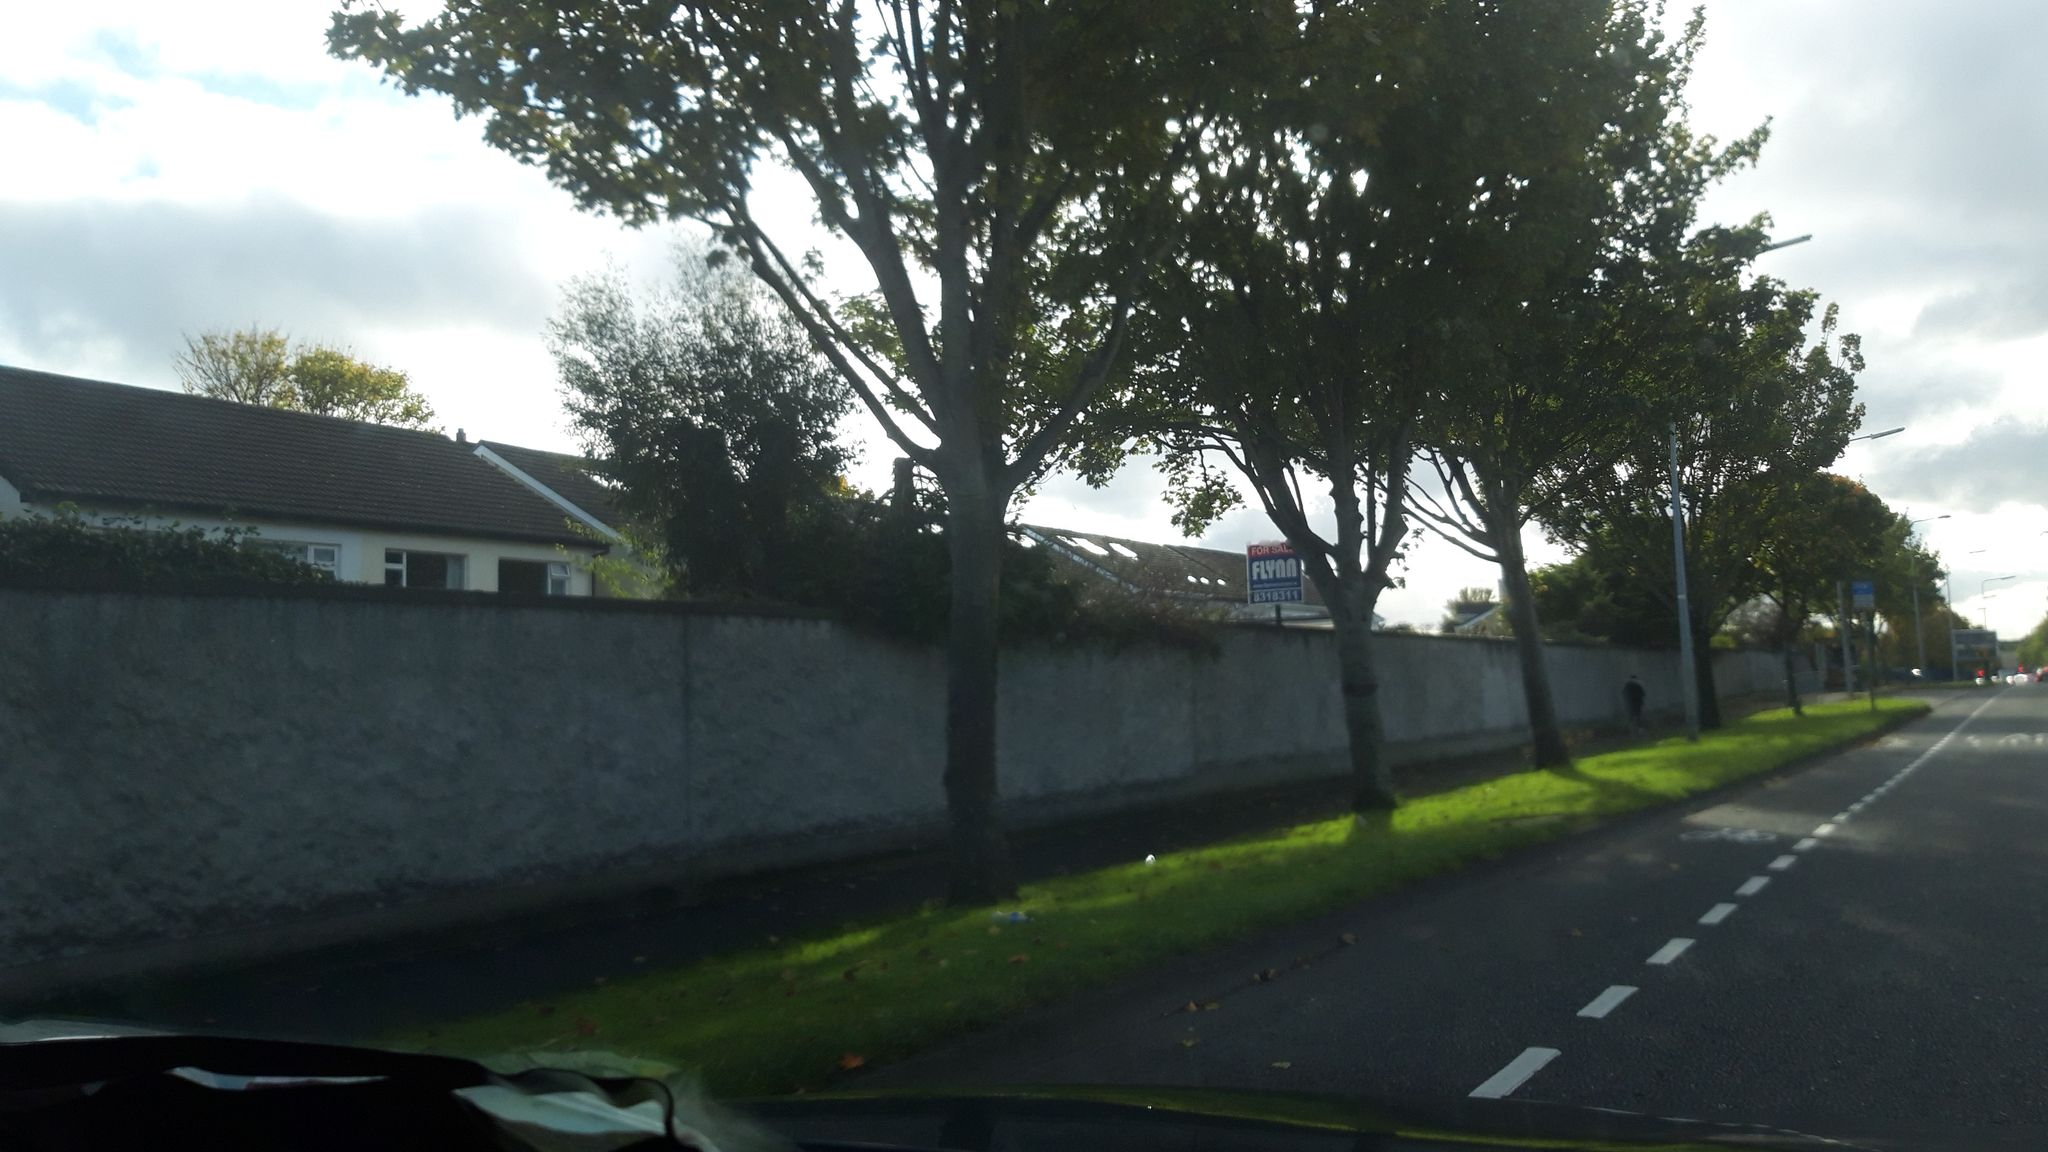property sign: (1235, 533, 1319, 612)
